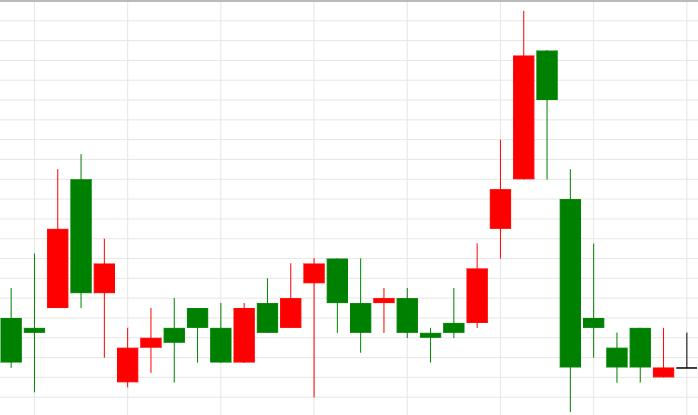hanging_man_fall: (420, 11, 558, 362), (209, 257, 326, 397)
